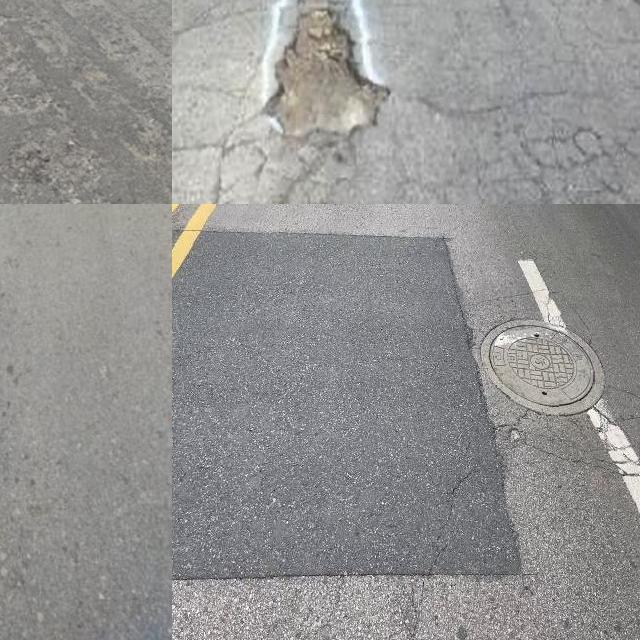Lubang: (271, 0, 379, 126)
Sambungan: (172, 229, 521, 578)
